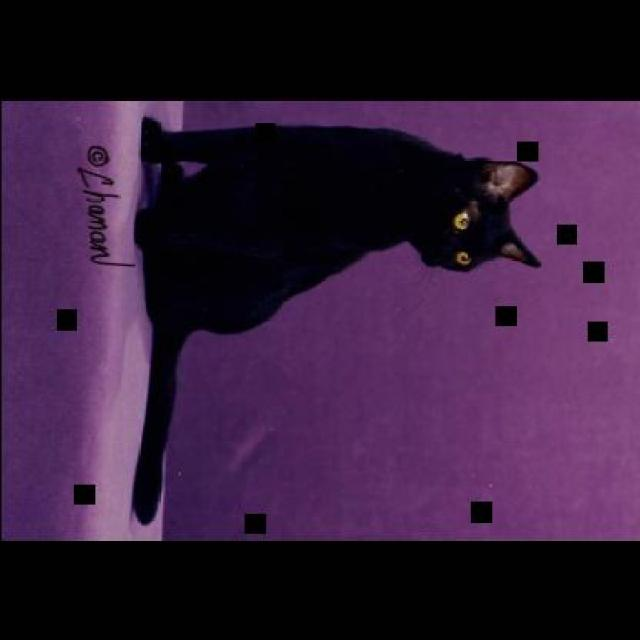unauthorized: (128, 117, 542, 525)
